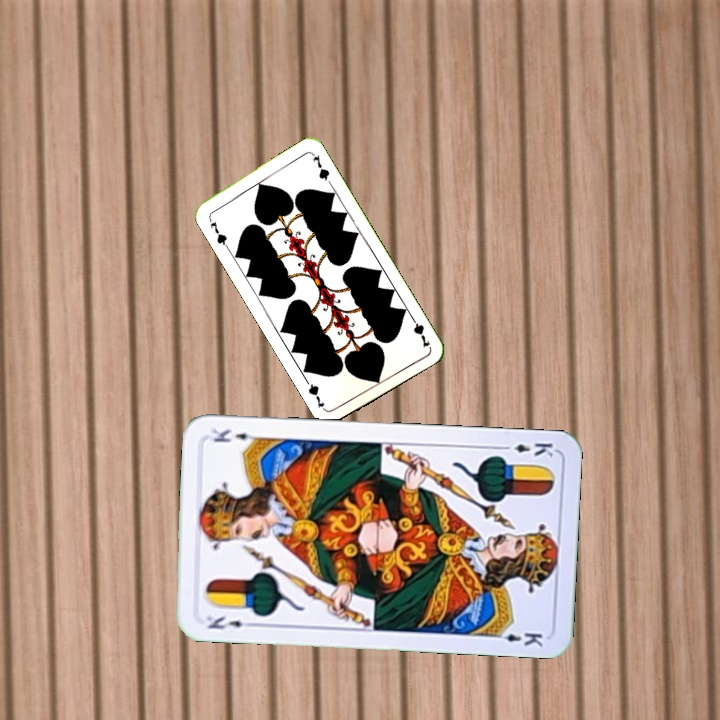EK: (497, 438, 556, 459), (202, 611, 257, 632)
G7: (406, 312, 433, 350), (206, 217, 230, 250)
